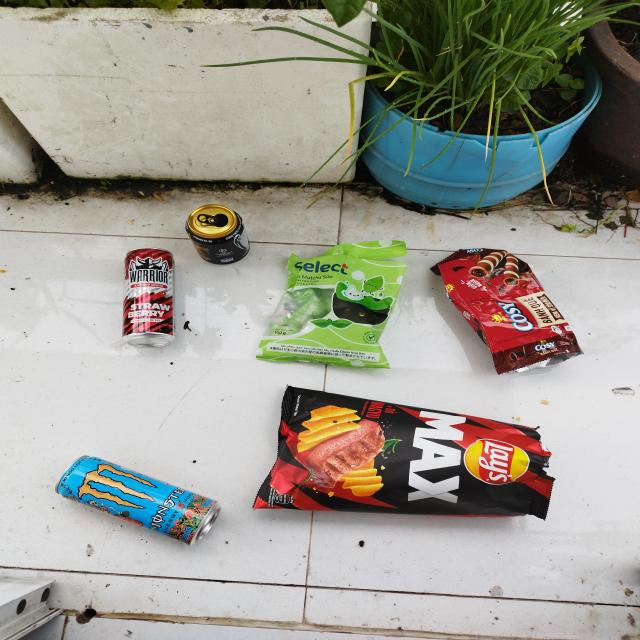can: (55, 455, 222, 546), (122, 247, 176, 348), (185, 204, 250, 265)
snack package: (253, 384, 556, 522), (255, 240, 408, 369), (430, 248, 584, 375)
